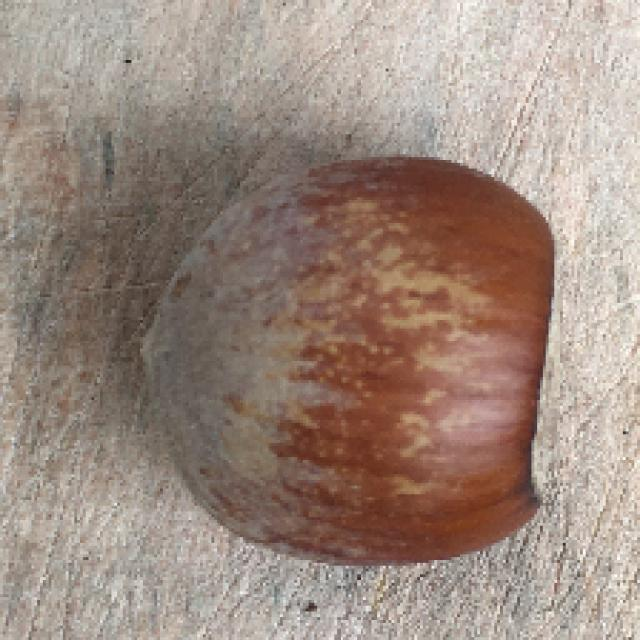qualityHazelnut: (128, 152, 566, 563)
